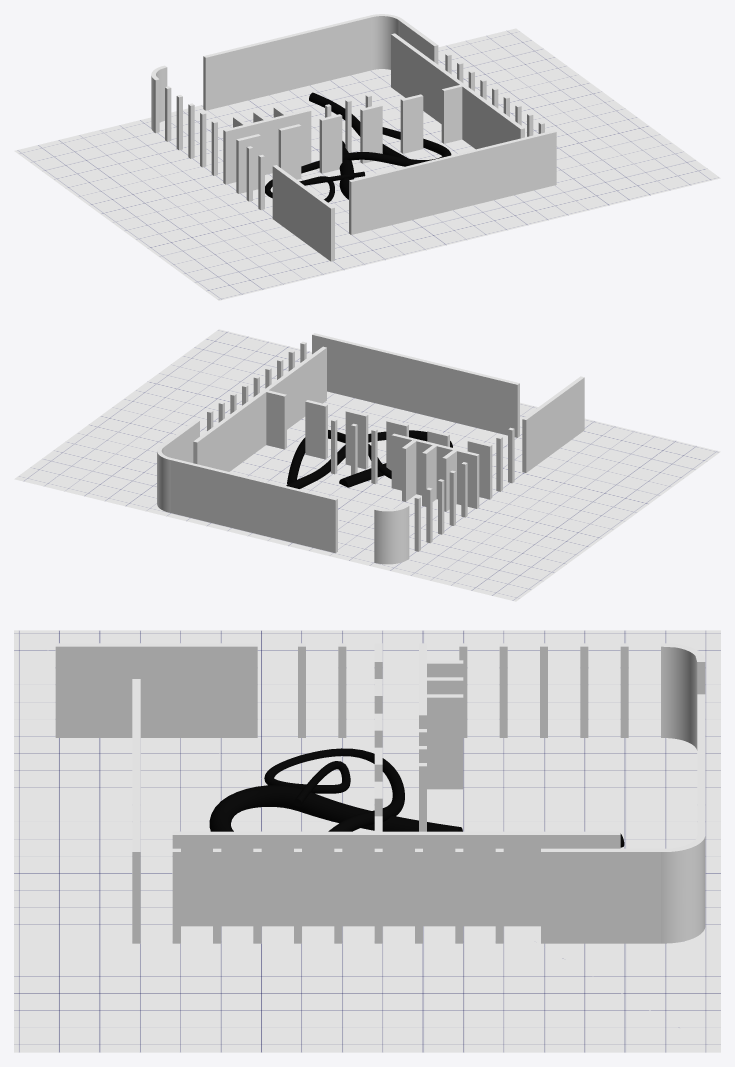
Rendered from 3d-model-new-again.obj.
The picture shows the model from 3 angles, top to bottom: view 1: azimuth 30°, elevation 25°; view 2: azimuth 150°, elevation 25°; view 3: azimuth 270°, elevation 25°; orthographic projection. The views are drawn at different scales.
Visible parts, largest first — view 1: A4.png, object_18, object_23, object_43, object_42, object_4, object_17, object_22, object_10, object_12, object_19, object_9 (+6 smaller); view 2: A4.png, object_18, object_23, object_43, object_42, object_25, object_4, object_22, object_16, object_10, object_19, object_9 (+8 smaller); view 3: A4.png, object_43, object_42, object_26, object_23, object_16, object_25, object_17, object_1, object_18, object_39, object_33 (+15 smaller).
Part boxes in pixels (<box>): A4.png: <box>14,28,720,300</box>; object_18: <box>369,130,556,229</box>; object_23: <box>226,14,403,105</box>; object_43: <box>391,33,524,149</box>; object_42: <box>272,165,334,261</box>; object_4: <box>228,110,306,183</box>; object_17: <box>265,127,451,202</box>; object_22: <box>203,50,227,110</box>; object_10: <box>400,94,423,153</box>; object_12: <box>319,114,342,173</box>; object_19: <box>349,175,371,234</box>; object_9: <box>441,84,463,143</box>; A4.png: <box>14,329,720,601</box>; object_18: <box>312,333,499,432</box>; object_23: <box>157,445,315,547</box>; object_43: <box>193,346,326,471</box>; object_42: <box>522,376,584,472</box>; object_25: <box>374,504,409,564</box>; object_4: <box>395,434,474,507</box>; object_22: <box>313,493,337,553</box>; object_16: <box>286,430,452,488</box>; object_10: <box>305,400,327,459</box>; object_19: <box>497,378,519,437</box>; object_9: <box>264,390,286,449</box>; A4.png: <box>14,630,720,1052</box>; object_43: <box>172,831,620,926</box>; object_42: <box>55,643,257,737</box>; object_26: <box>541,848,660,943</box>; object_23: <box>661,713,705,943</box>; object_16: <box>209,785,624,847</box>; object_25: <box>661,643,705,750</box>; object_17: <box>264,748,404,831</box>; object_1: <box>427,694,463,789</box>; object_18: <box>132,696,140,943</box>; object_39: <box>253,848,261,943</box>; object_33: <box>495,848,503,943</box>.
Size of the model in its own units: 14872 by 1680 by 10514.
Materials: 3 (1 with a texture image).
